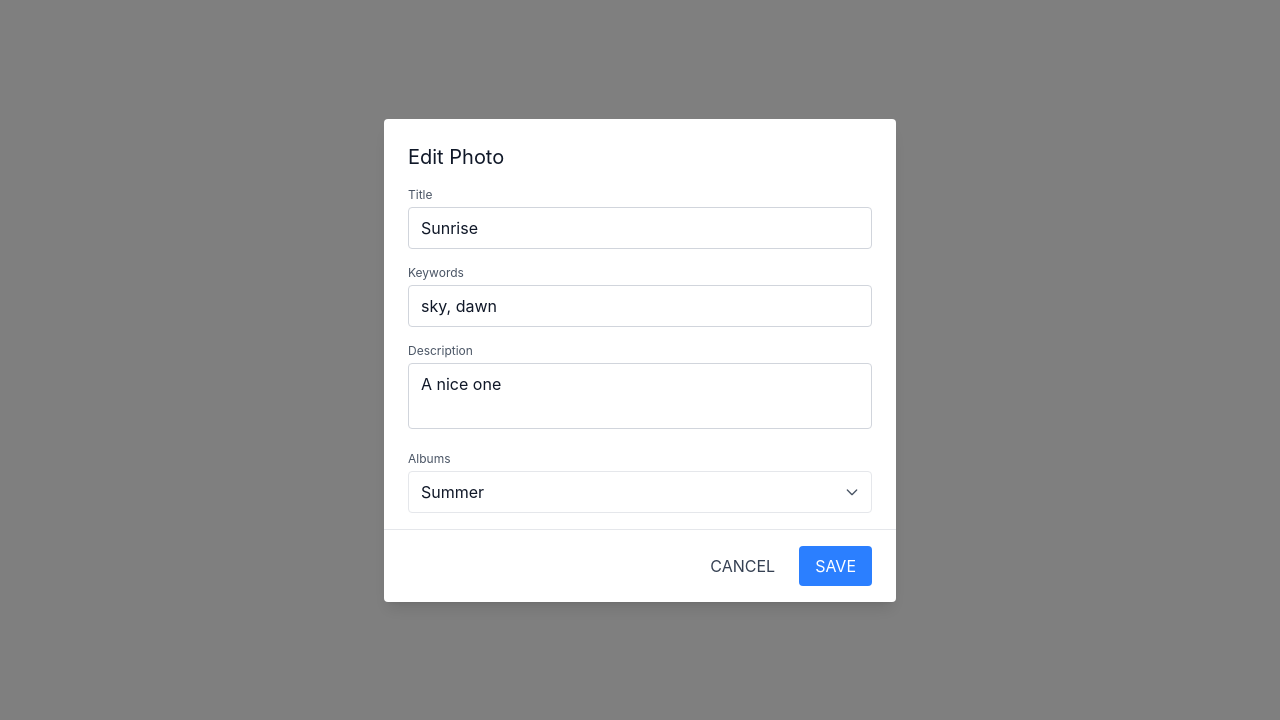
PhotoEditDialog › closing with unsaved changes › lets Escape close just the open album list
The image size is (1280, 720).
Click the dropdown named "Albums".
click(453, 492)  # box [408,470,872,512]
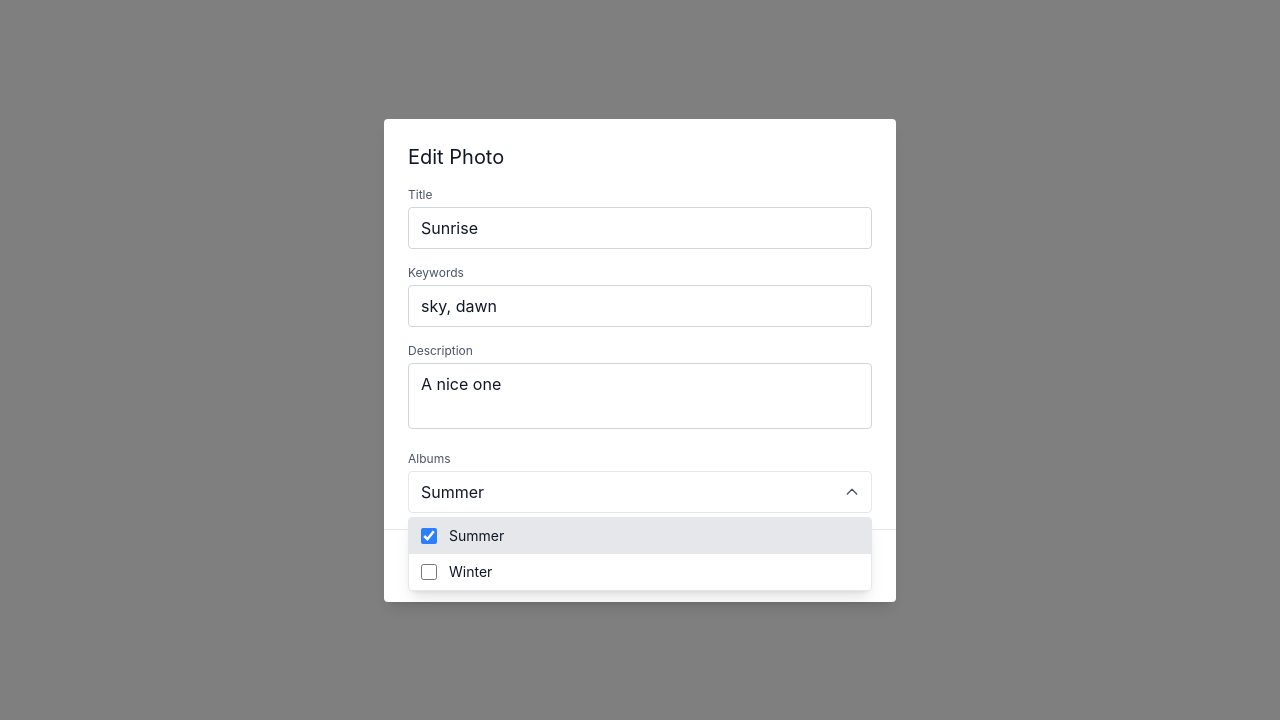
Click the option "Winter".
click(471, 571)  # box [409,554,871,590]
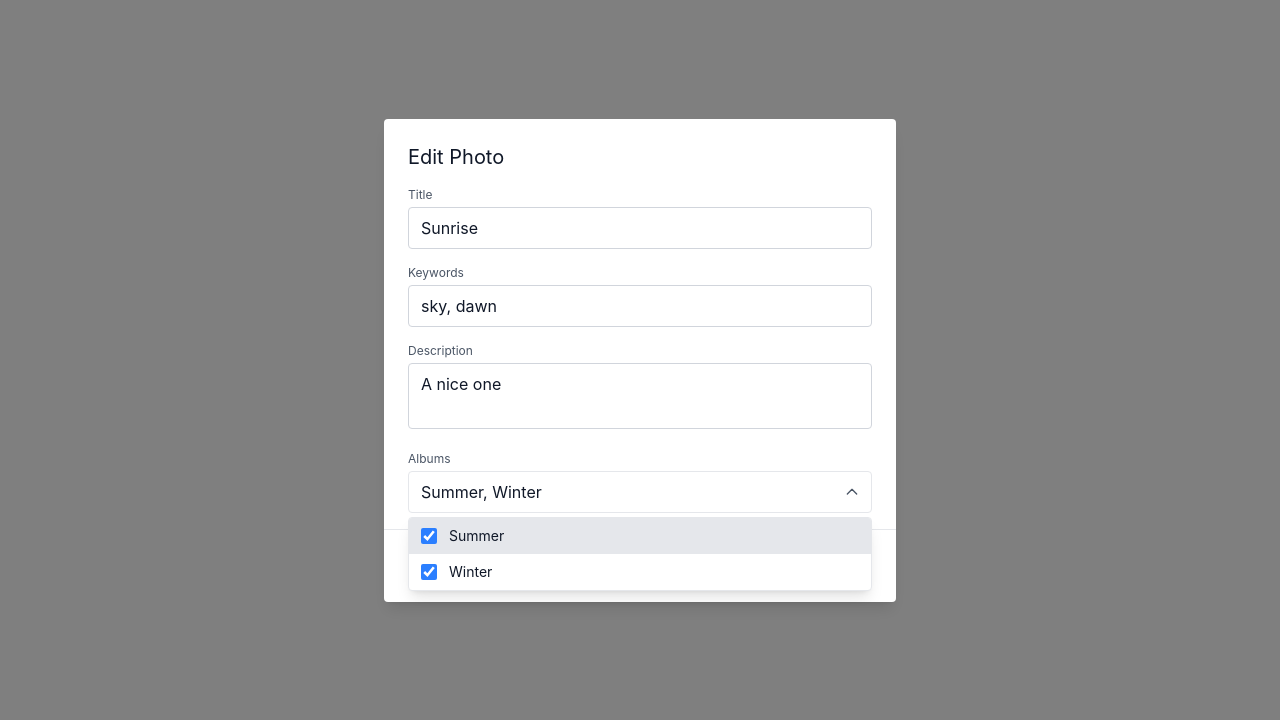
Press Escape in the dropdown named "Albums", box [408,470,872,512]
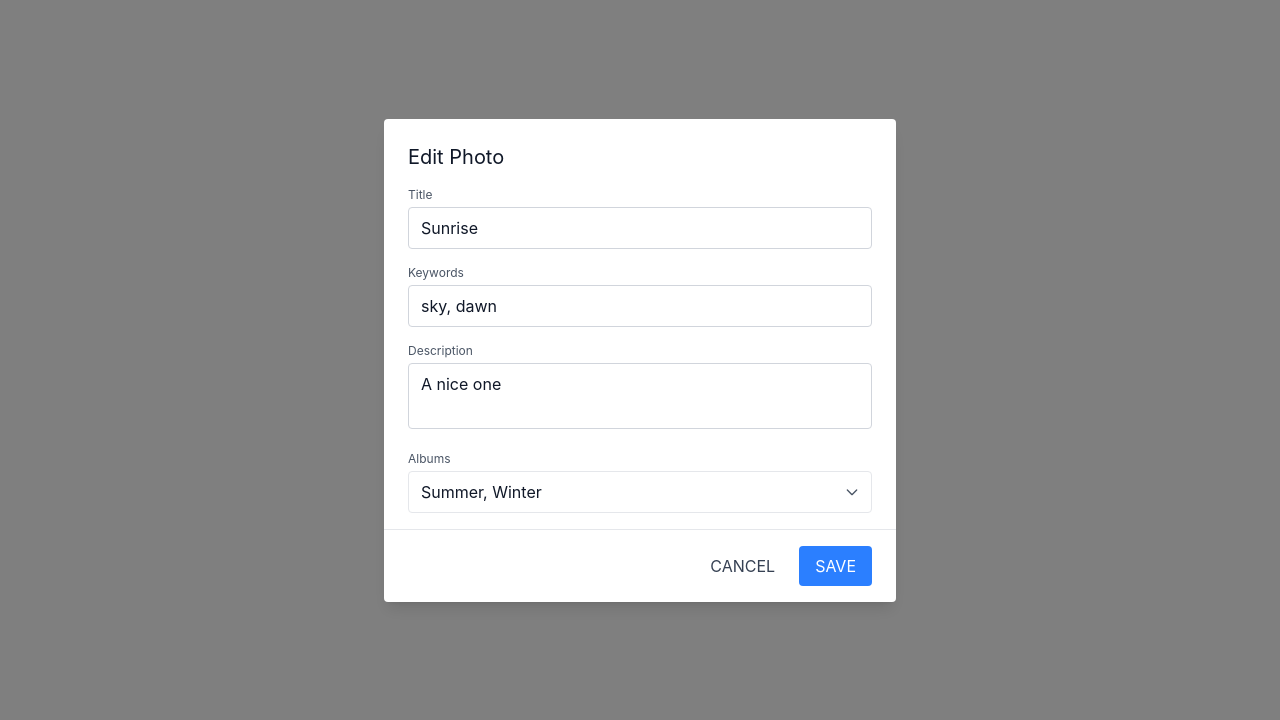
Expected: the dropdown named "Albums" is collapsed, [408,470,872,512]
